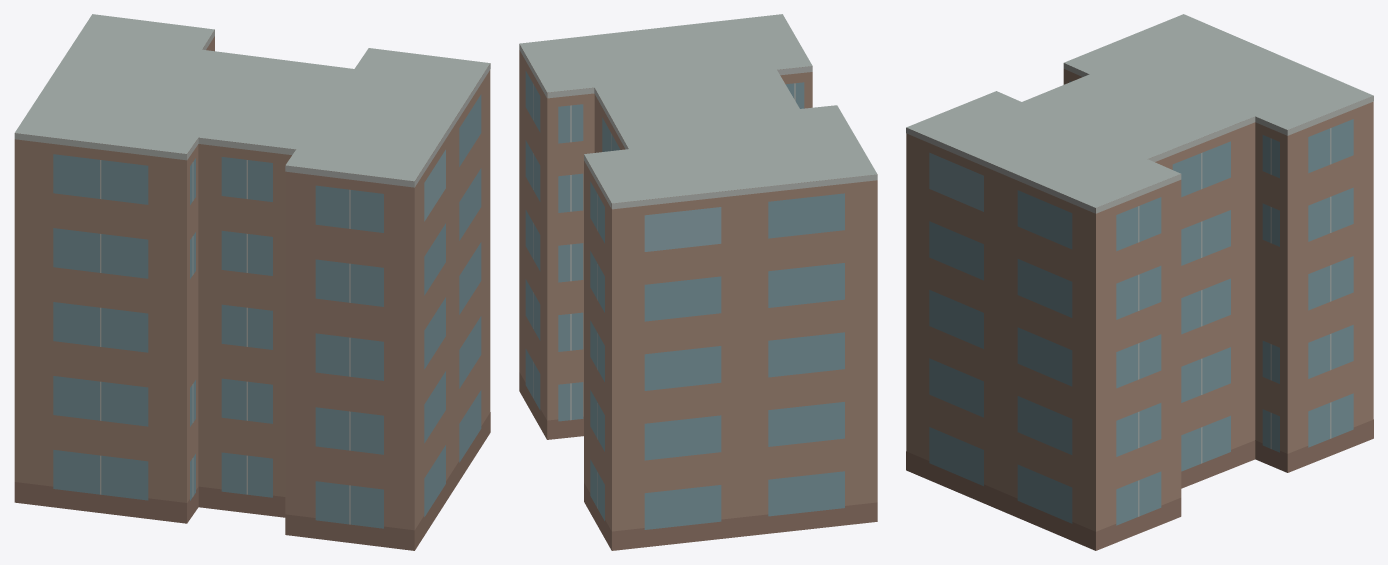
The model's file is survey-upis-32842762.glb.
3 renders of one model, left to right at view 1: azimuth 30°, elevation 25°; view 2: azimuth 150°, elevation 25°; view 3: azimuth 270°, elevation 25°, orthographic. The views are drawn at different scales.
Visible parts, largest first — view 1: survey-upis-32842762.tmp; view 2: survey-upis-32842762.tmp; view 3: survey-upis-32842762.tmp.
Boxes of the visible parts, x1,y1,x2,y2 form: survey-upis-32842762.tmp: [14, 14, 490, 550]; survey-upis-32842762.tmp: [519, 14, 877, 550]; survey-upis-32842762.tmp: [906, 14, 1373, 550].
Size of the model in its own units: 17.48 by 14.4 by 17.81.
